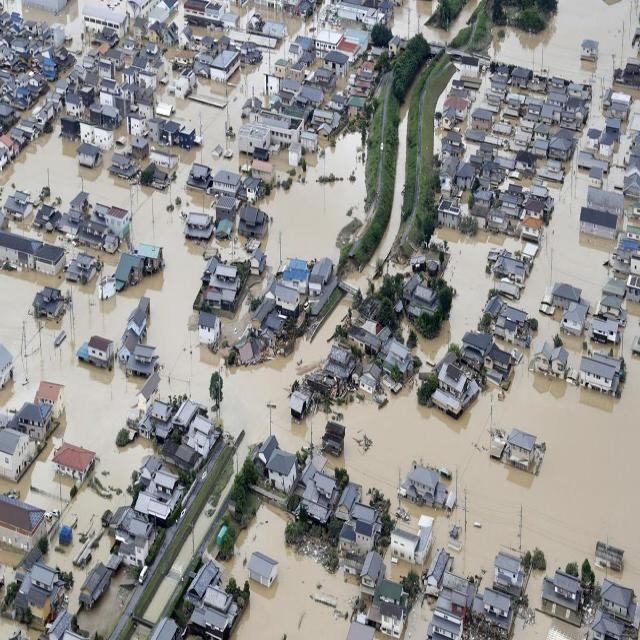house: (333, 498, 382, 568), (183, 586, 245, 637), (121, 288, 155, 371), (298, 457, 336, 531), (432, 357, 478, 418), (401, 458, 452, 512), (366, 573, 409, 637), (0, 493, 49, 548), (1, 411, 43, 474), (82, 194, 128, 250), (471, 582, 516, 639), (18, 562, 62, 620), (252, 430, 294, 490), (576, 185, 623, 238), (141, 466, 186, 517), (202, 261, 242, 317), (542, 566, 585, 618), (389, 514, 432, 566), (422, 1, 482, 36), (0, 426, 34, 484), (264, 288, 302, 339), (578, 356, 623, 399), (15, 397, 56, 444), (502, 425, 539, 477), (54, 441, 93, 488), (260, 106, 304, 146), (202, 46, 245, 86), (382, 334, 416, 384), (154, 115, 200, 151), (76, 562, 110, 610), (84, 3, 126, 40), (184, 412, 218, 457), (0, 230, 38, 270), (259, 304, 295, 346), (422, 546, 453, 594), (273, 266, 305, 312), (493, 546, 523, 594), (248, 548, 280, 593), (110, 506, 152, 540), (600, 580, 634, 622), (536, 341, 570, 383), (518, 189, 554, 228), (79, 332, 115, 370), (33, 284, 67, 324), (67, 249, 101, 287), (183, 204, 214, 245), (21, 102, 55, 139), (143, 151, 176, 189), (86, 96, 120, 131), (1, 334, 20, 396), (320, 414, 346, 459), (546, 280, 585, 310), (288, 377, 314, 421), (306, 254, 336, 292), (34, 241, 64, 278), (496, 248, 528, 282), (545, 127, 575, 163), (238, 203, 268, 238), (316, 26, 343, 63), (238, 123, 270, 154), (138, 240, 167, 274), (621, 250, 640, 301), (196, 308, 220, 348), (348, 327, 381, 355), (184, 0, 224, 23), (408, 276, 436, 308), (78, 138, 104, 171), (120, 538, 150, 566), (245, 238, 267, 276), (442, 96, 468, 128), (600, 292, 628, 321), (212, 170, 242, 197), (4, 193, 34, 220), (592, 316, 617, 348), (110, 150, 136, 180), (187, 162, 212, 192), (5, 126, 28, 156), (438, 200, 462, 228), (59, 112, 80, 142), (0, 132, 16, 170), (9, 122, 34, 146), (508, 67, 534, 90), (471, 106, 494, 130), (152, 399, 174, 424), (442, 156, 457, 192), (214, 196, 237, 218), (458, 164, 476, 192), (312, 108, 334, 130), (128, 110, 147, 134), (541, 104, 562, 125), (138, 416, 154, 441), (290, 62, 309, 82), (582, 38, 598, 61), (100, 77, 120, 95), (600, 134, 616, 156), (519, 116, 538, 134), (445, 132, 463, 150), (106, 49, 125, 66), (548, 92, 568, 108), (623, 224, 640, 242), (587, 127, 601, 148), (122, 66, 138, 84), (568, 82, 586, 98), (272, 58, 287, 77), (611, 93, 632, 106), (288, 42, 304, 59), (330, 92, 344, 111), (361, 60, 376, 74)
